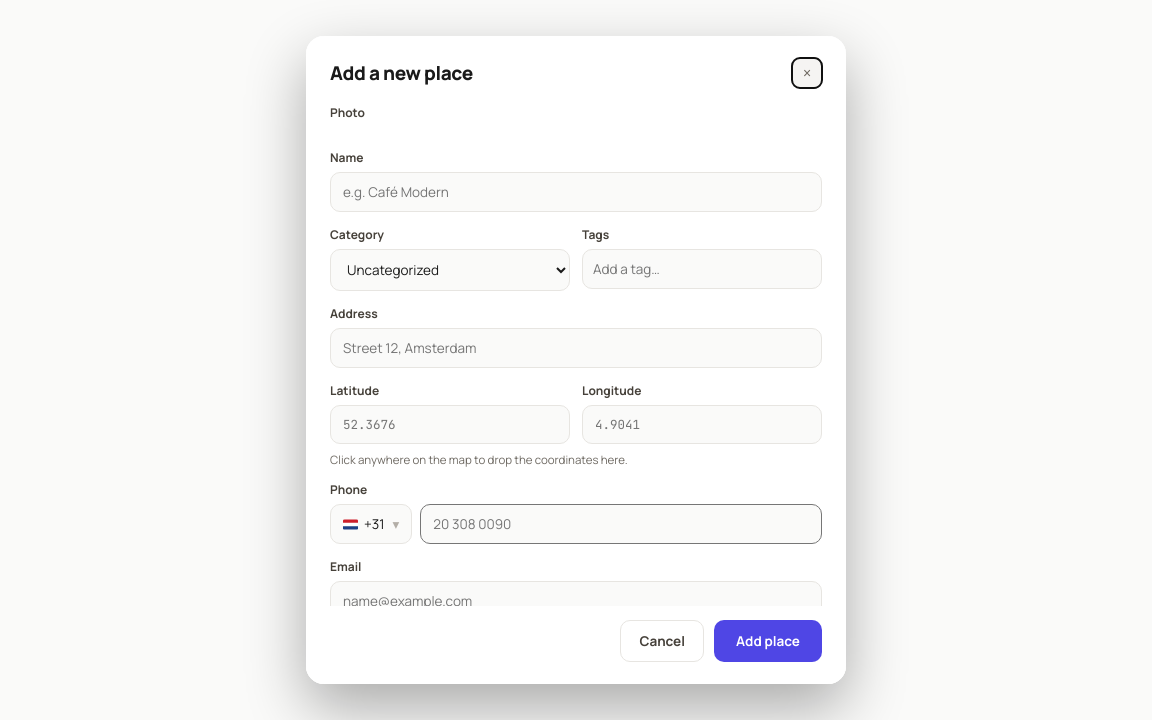
Test: PoiFormModal › blocks save and warns when coordinates are invalid
The width and height of the screenshot is (1152, 720).
Type "No Coords" into the field labelled "Name" at (576, 192), box [330, 172, 822, 212]
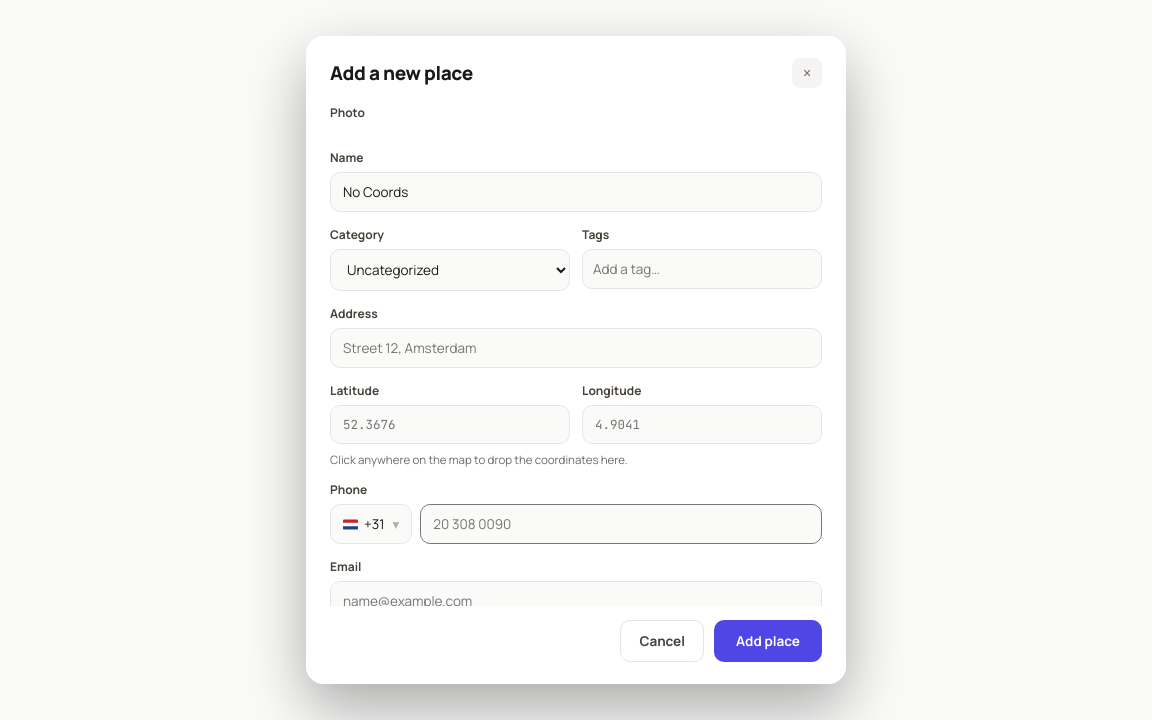
Click the button "Add place" at (768, 641), box [714, 620, 822, 662]
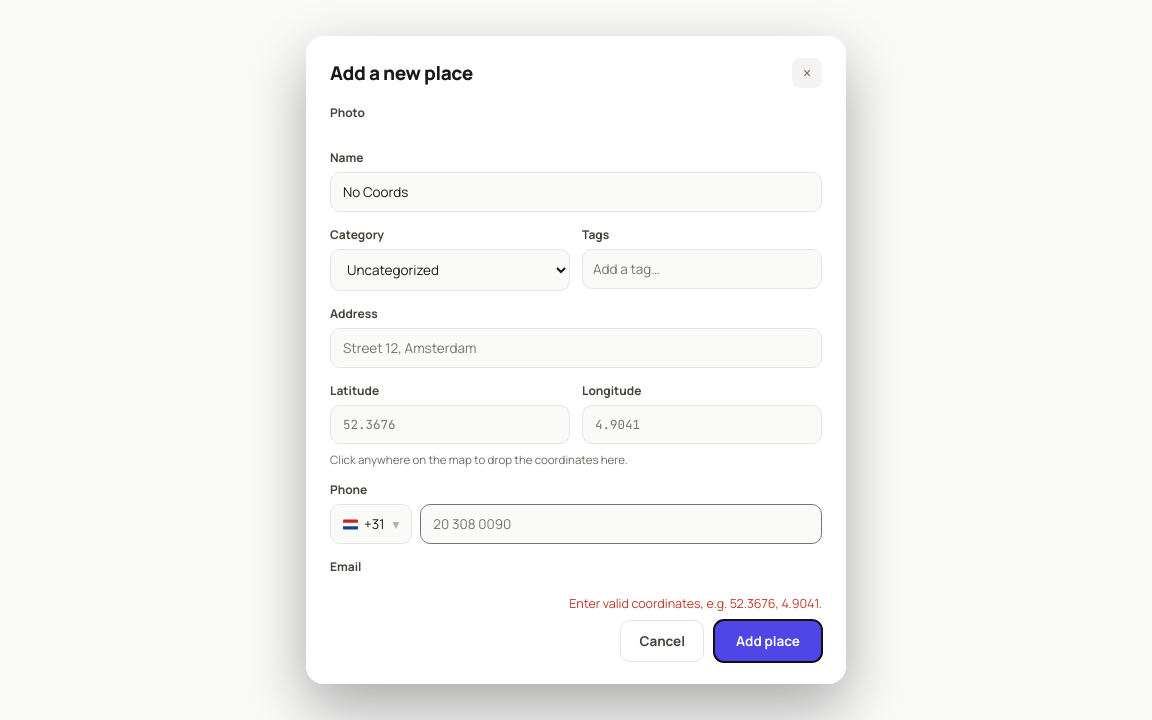
Check: the text "Enter valid coordinates, e.g. 52.3676, 4.9041." is shown, box [569, 595, 822, 612]
